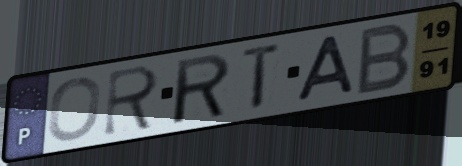A: (293, 32, 358, 105)
B: (353, 19, 415, 98)
O: (45, 75, 104, 143)
R: (100, 62, 162, 139), (172, 50, 233, 127)
T: (239, 39, 285, 115)
